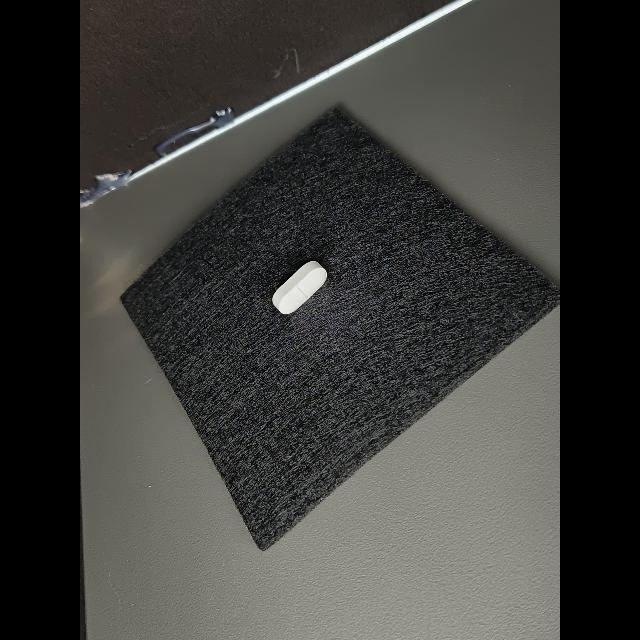Intact Pill: (272, 261, 327, 314)
